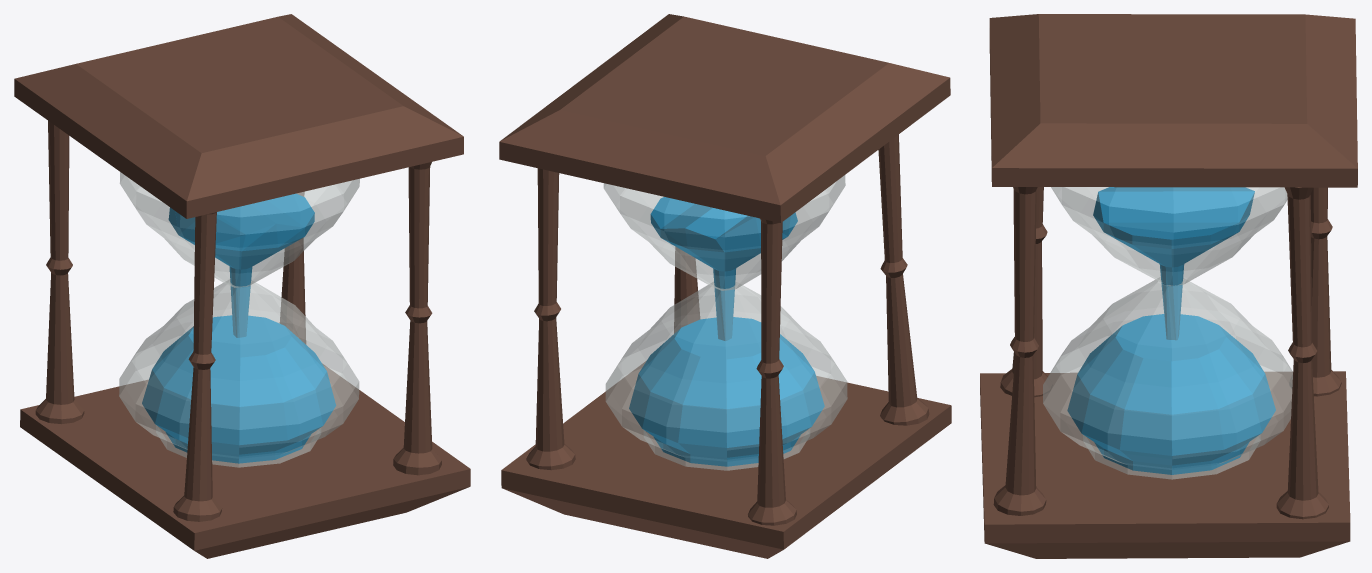
The model's file is HourGlass.fbx.
The picture shows the model from 3 angles, left to right: view 1: azimuth 30°, elevation 25°; view 2: azimuth 150°, elevation 25°; view 3: azimuth 270°, elevation 25°; orthographic projection. The views are drawn at different scales.
Parts seen in each view (by area): view 1: Mesh; view 2: Mesh; view 3: Mesh.
Boxes of the visible parts, x1,y1,x2,y2 form: Mesh: [14, 14, 470, 558]; Mesh: [499, 14, 951, 558]; Mesh: [980, 14, 1357, 558].
Bounding box in the file's own units: 4.7 × 6.46 × 5.05.
